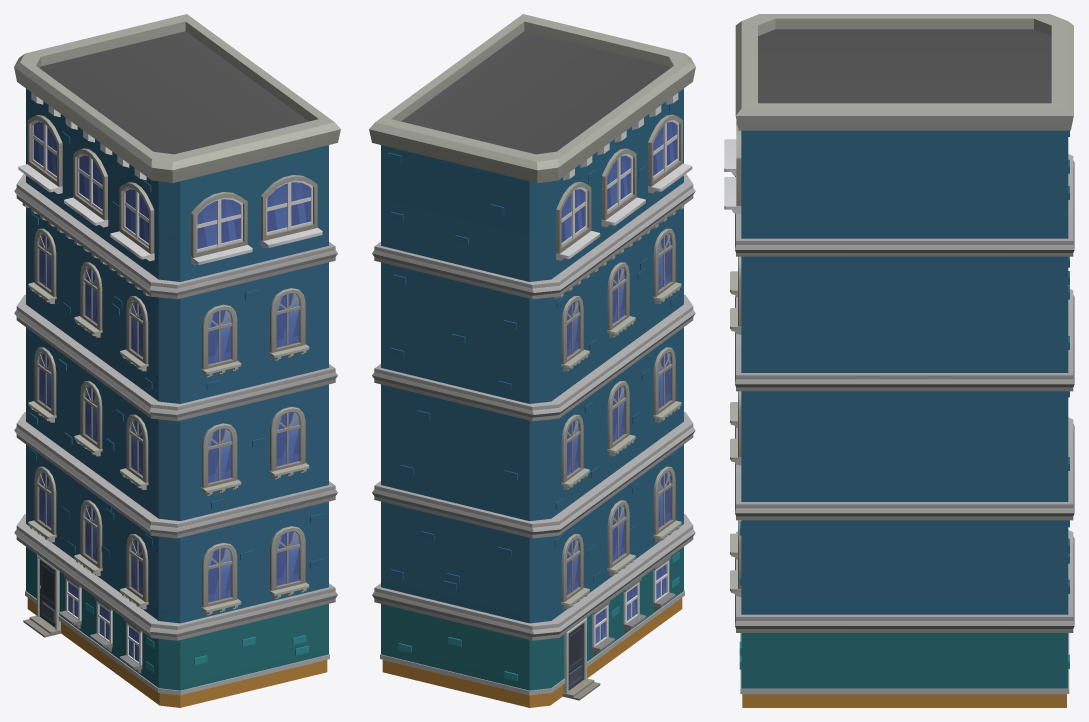
The model's file is Building_18_1_B.fbx.
3 renders of one model, left to right at view 1: azimuth 30°, elevation 25°; view 2: azimuth 150°, elevation 25°; view 3: azimuth 270°, elevation 25°, orthographic. The views are drawn at different scales.
Parts seen in each view (by area): view 1: Building_18_1_B; view 2: Building_18_1_B; view 3: Building_18_1_B.
Boxes of the visible parts, x1=… form: Building_18_1_B: x1=14, y1=14, x2=340, y2=707; Building_18_1_B: x1=369, y1=14, x2=695, y2=707; Building_18_1_B: x1=724, y1=14, x2=1074, y2=707.
Size of the model in its own units: 719 by 2014 by 1059.
